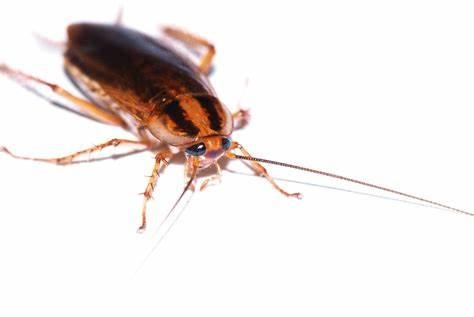cockroach: (53, 20, 270, 208)
